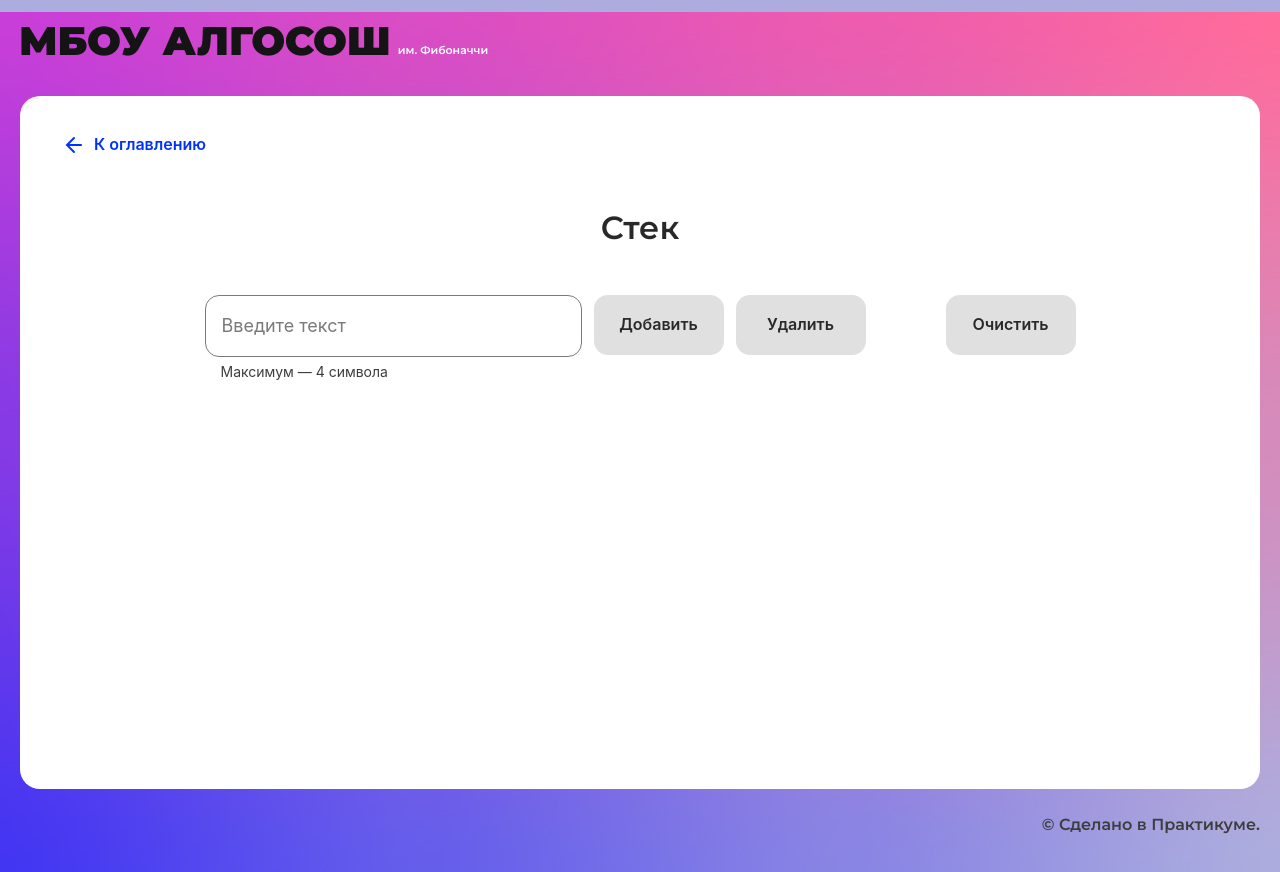
Test case: Проверка работы визуализатора стека › Проверка состояния кнопок и инпута › В инпут можно ввести не более 4 символов
The image size is (1280, 872).
Type "48597856" into the field with placeholder "Введите текст" at (394, 326), box [205, 295, 582, 357]
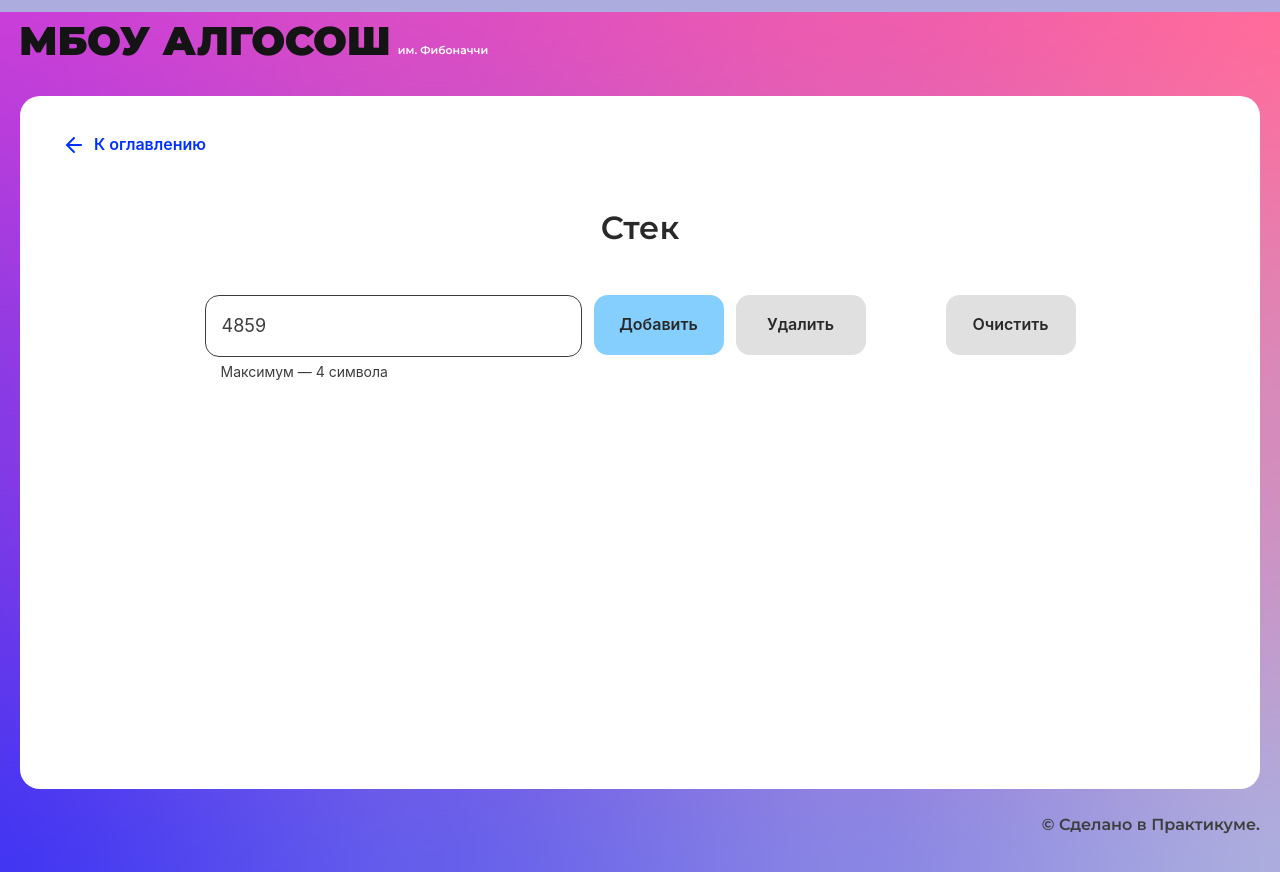
Expected: the field holds "4859", [205, 295, 582, 357]
